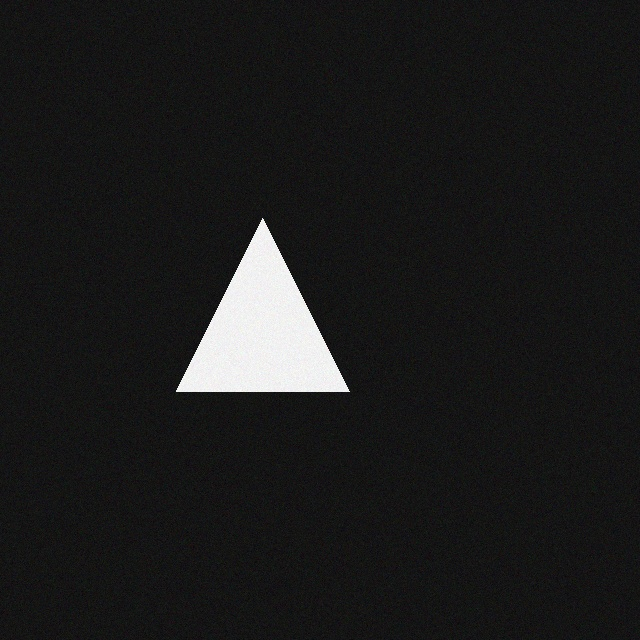triangle: (172, 215, 345, 388)
